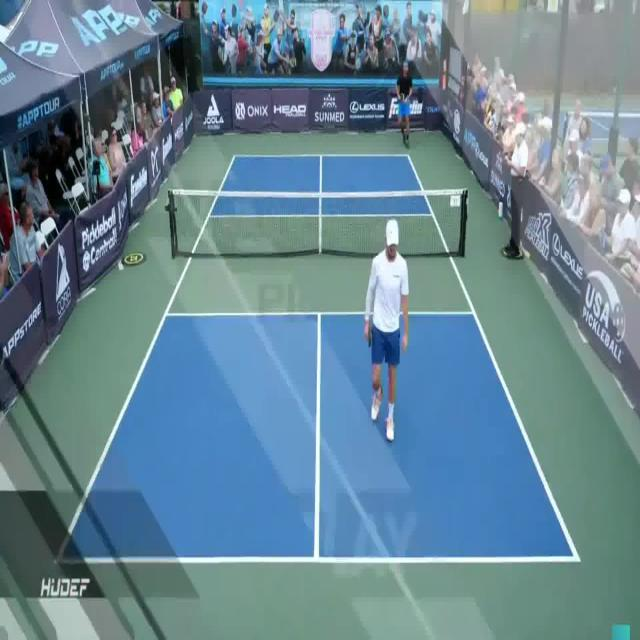Court: (57, 153, 577, 561)
